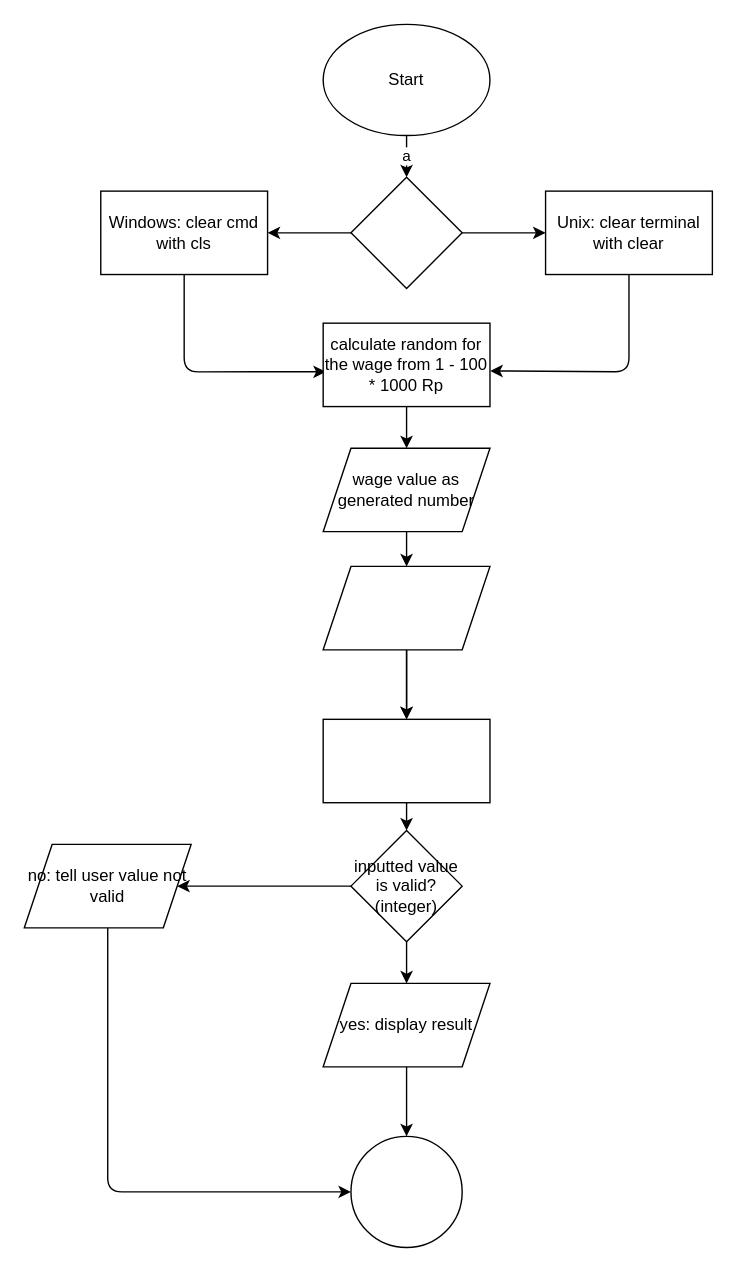
This 737x1272 diagram has some shape labels left out. Here are the shapes that lost their labels. From the top down, the box of each, then its label:
(350, 176, 462, 288): is on OS...?
(322, 565, 490, 650): input work hour workHour = input()
(322, 718, 490, 803): calculate wage (daily) dailyWage = wage * workHour
(350, 1135, 462, 1248): end
